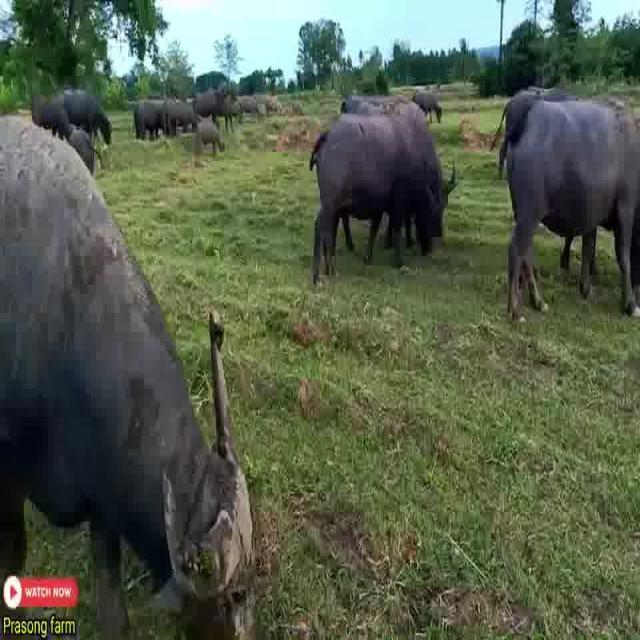buffalo: (0, 92, 223, 637), (492, 80, 639, 324), (302, 92, 458, 287)
